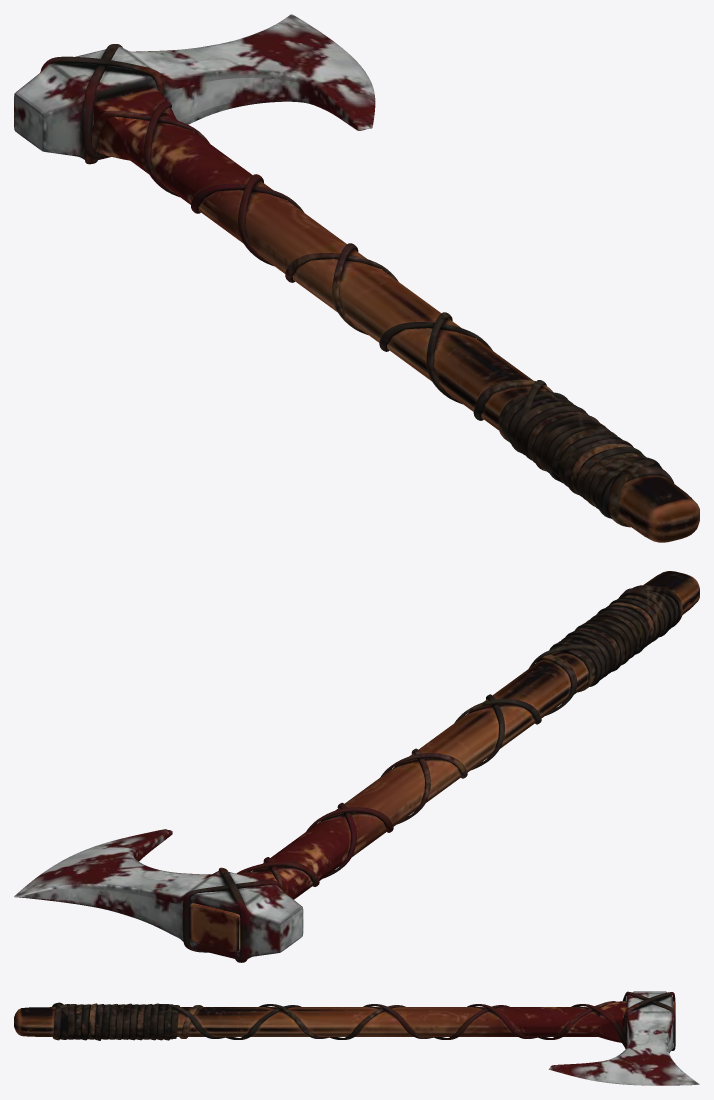
The model's file is Hache_de_kattegat.glb.
3 renders of one model, top to bottom at view 1: azimuth 30°, elevation 25°; view 2: azimuth 150°, elevation 25°; view 3: azimuth 270°, elevation 25°, orthographic. The views are drawn at different scales.
Visible parts, largest first — view 1: polySurface6; view 2: polySurface6; view 3: polySurface6.
Part boxes in pixels (x1,y1,x2,y2): polySurface6: [14, 14, 699, 542]; polySurface6: [14, 571, 699, 962]; polySurface6: [14, 991, 699, 1085].
Bounding box in the file's own units: 6.27 × 1.66 × 21.62.
1 material, 1 textured.
